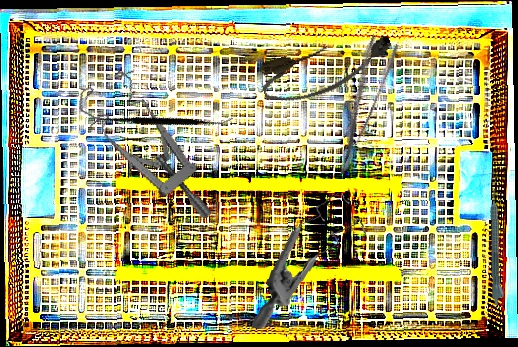Cannula: (256, 27, 399, 110)
Dressing Forceps: (317, 33, 402, 177)
Handpiece: (489, 189, 506, 306)
Spatula Surgical: (89, 58, 234, 187)
Speculum: (72, 56, 214, 245), (251, 185, 370, 339)
